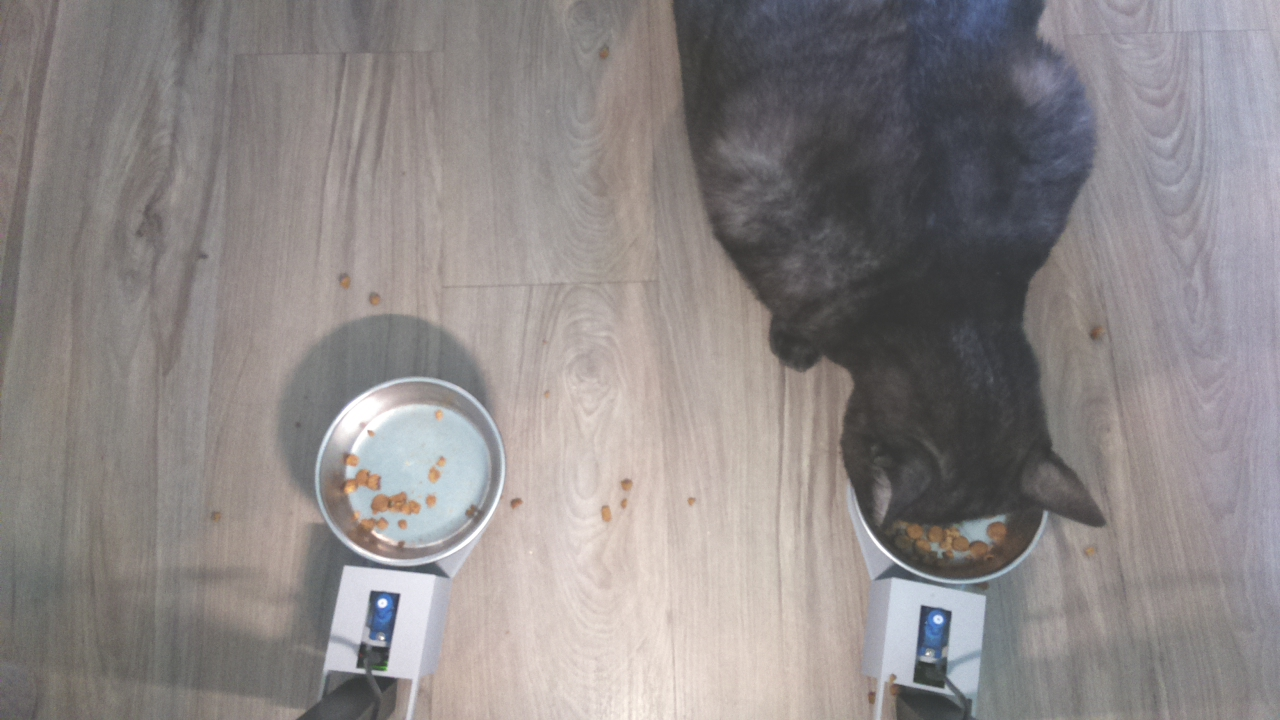open_bowl: (311, 372, 511, 575)
saki_eating: (836, 326, 1102, 586)
